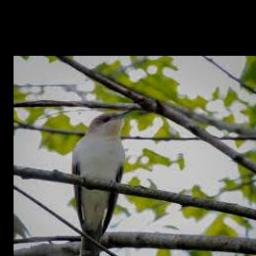Cuckoo: (73, 111, 134, 256)
